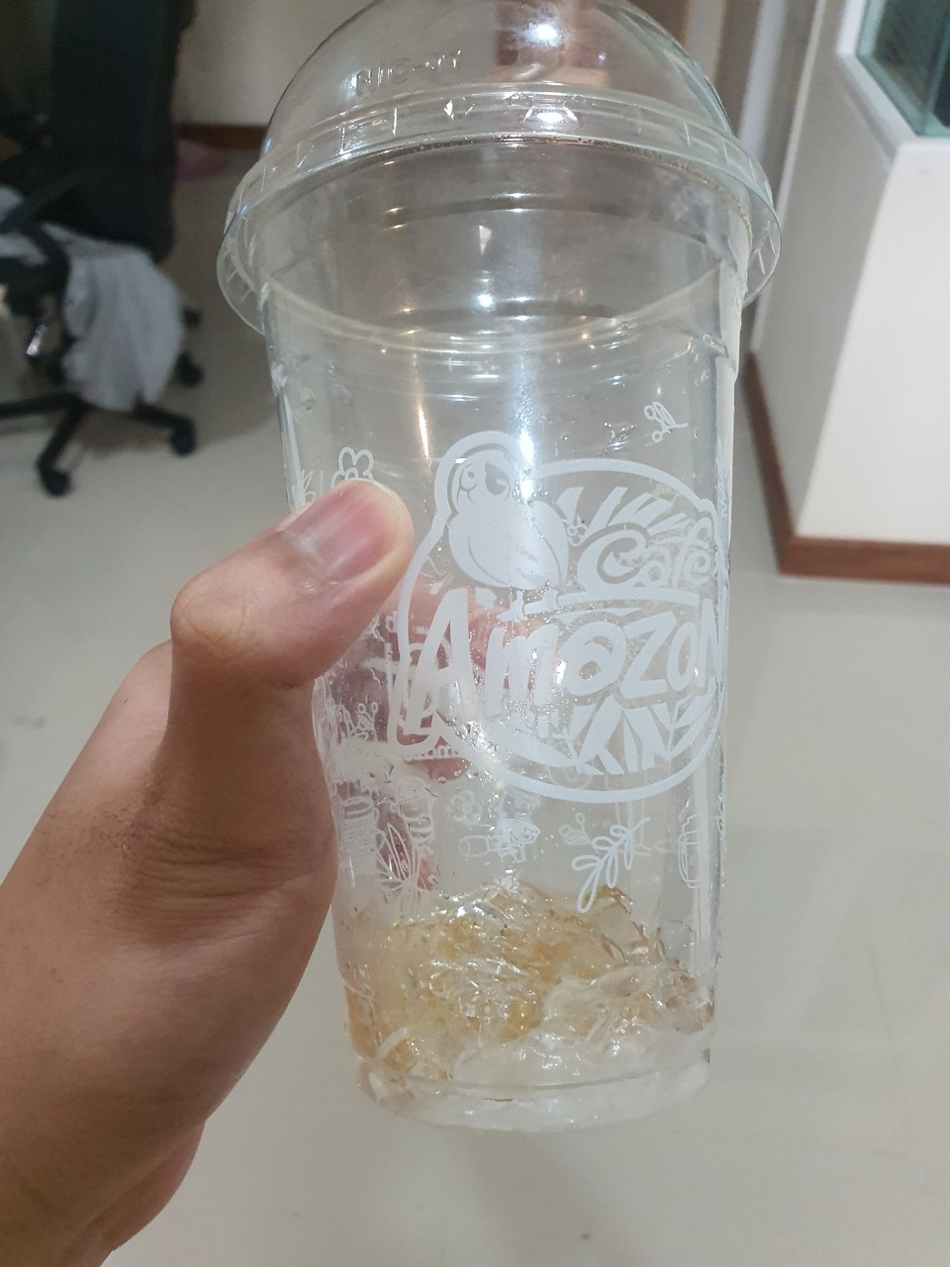plastic: (205, 6, 804, 1141)
